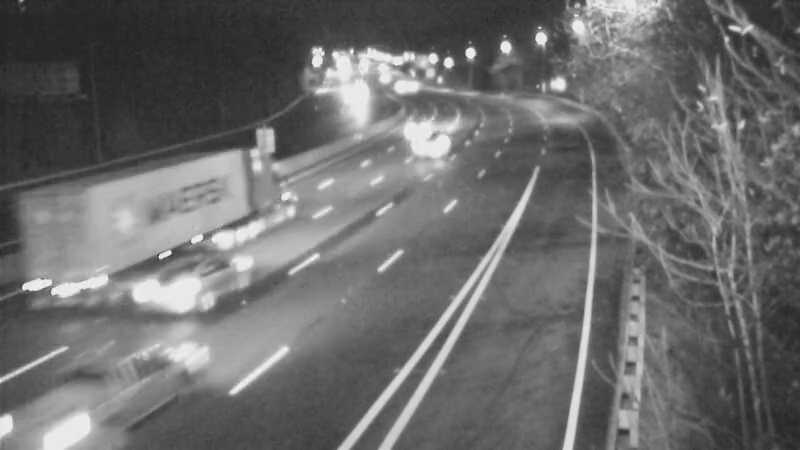vehicle: (53, 341, 163, 450), (139, 161, 219, 241), (130, 252, 210, 332), (389, 102, 439, 152), (409, 121, 459, 171), (333, 68, 383, 118)
